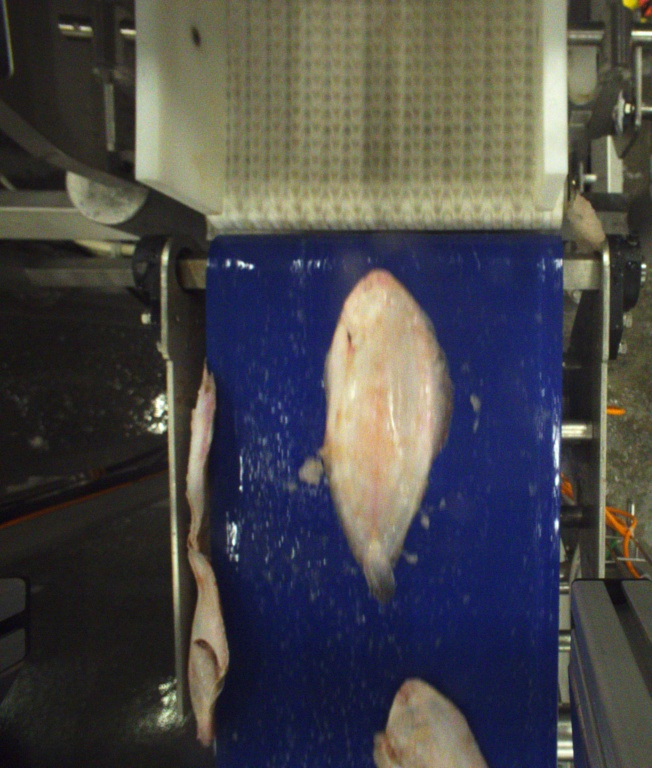SOL: (323, 268, 450, 607)
